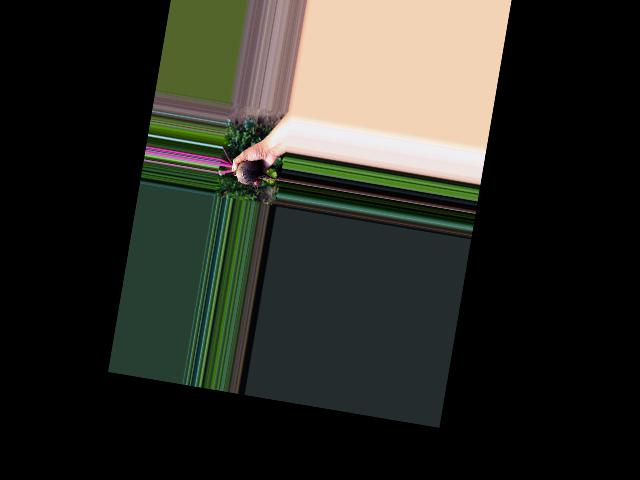beet: (215, 146, 285, 199)
